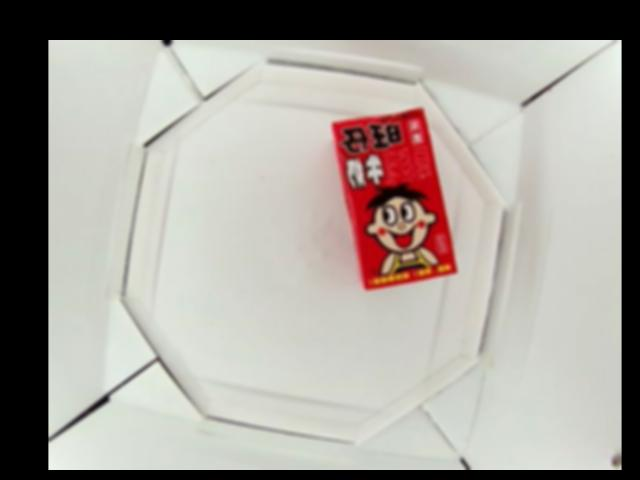Bottle: (330, 106, 459, 287)
